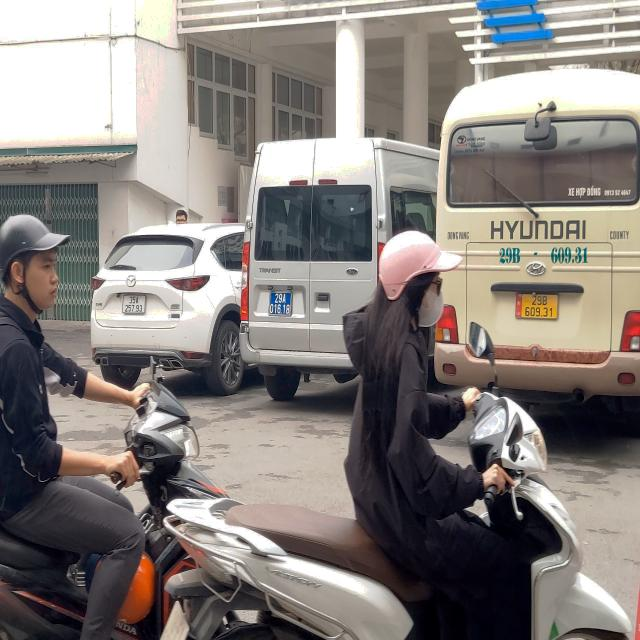license_plate: (517, 294, 560, 320), (269, 292, 294, 318), (122, 295, 148, 314)
